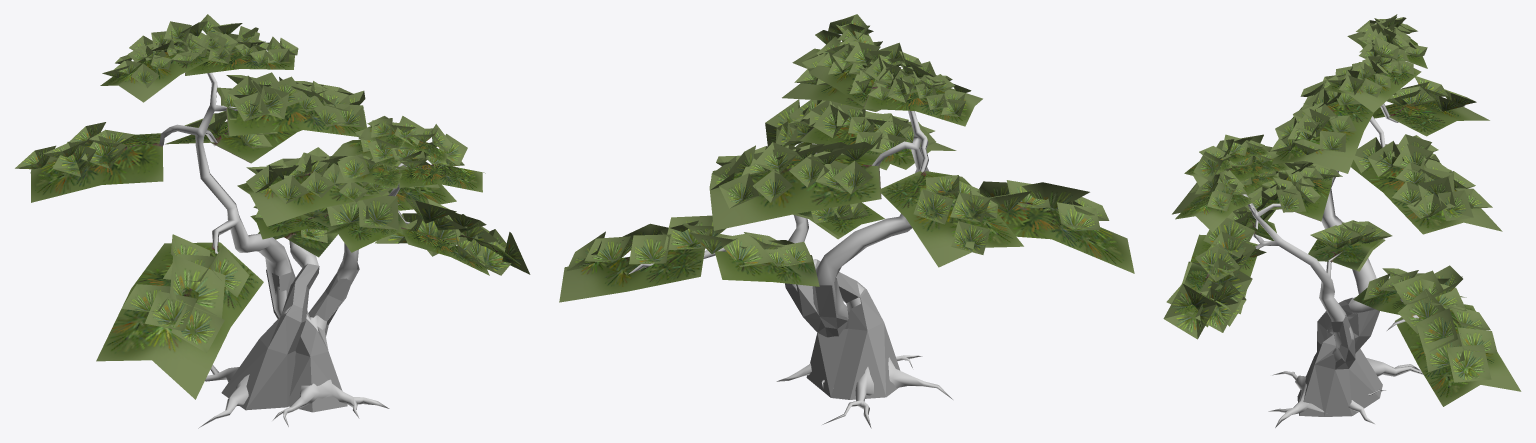
File: JiaYeSiWai1_ShuSong_4.FBX
3 renders of one model, left to right at view 1: azimuth 30°, elevation 25°; view 2: azimuth 150°, elevation 25°; view 3: azimuth 270°, elevation 25°, orthographic. The views are drawn at different scales.
Parts seen in each view (by area): view 1: JiaYeSiWai1_ShuSong_4a, JiaYeSiWai1_ShuSong_4_Xzm, JiaYeSiWai1_ShuSong_4b; view 2: JiaYeSiWai1_ShuSong_4a, JiaYeSiWai1_ShuSong_4_Xzm, JiaYeSiWai1_ShuSong_4b; view 3: JiaYeSiWai1_ShuSong_4a, JiaYeSiWai1_ShuSong_4_Xzm, JiaYeSiWai1_ShuSong_4b.
Boxes of the visible parts, bbox=[...] form: JiaYeSiWai1_ShuSong_4a: bbox=[15, 14, 530, 399]; JiaYeSiWai1_ShuSong_4_Xzm: bbox=[221, 252, 359, 412]; JiaYeSiWai1_ShuSong_4b: bbox=[159, 72, 428, 428]; JiaYeSiWai1_ShuSong_4a: bbox=[559, 14, 1134, 302]; JiaYeSiWai1_ShuSong_4_Xzm: bbox=[785, 259, 900, 399]; JiaYeSiWai1_ShuSong_4b: bbox=[628, 110, 952, 428]; JiaYeSiWai1_ShuSong_4a: bbox=[1163, 14, 1521, 406]; JiaYeSiWai1_ShuSong_4_Xzm: bbox=[1297, 297, 1382, 416]; JiaYeSiWai1_ShuSong_4b: bbox=[1242, 103, 1423, 427].
Size of the model in its own units: 1086 by 844 by 787.
